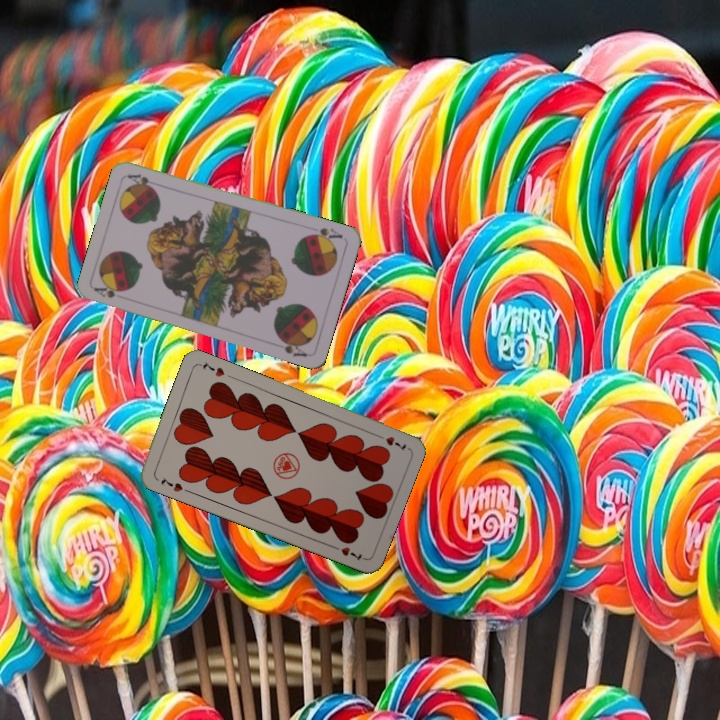H7: (372, 430, 409, 454), (157, 473, 185, 494)
SA: (304, 223, 345, 244), (90, 281, 127, 301)
